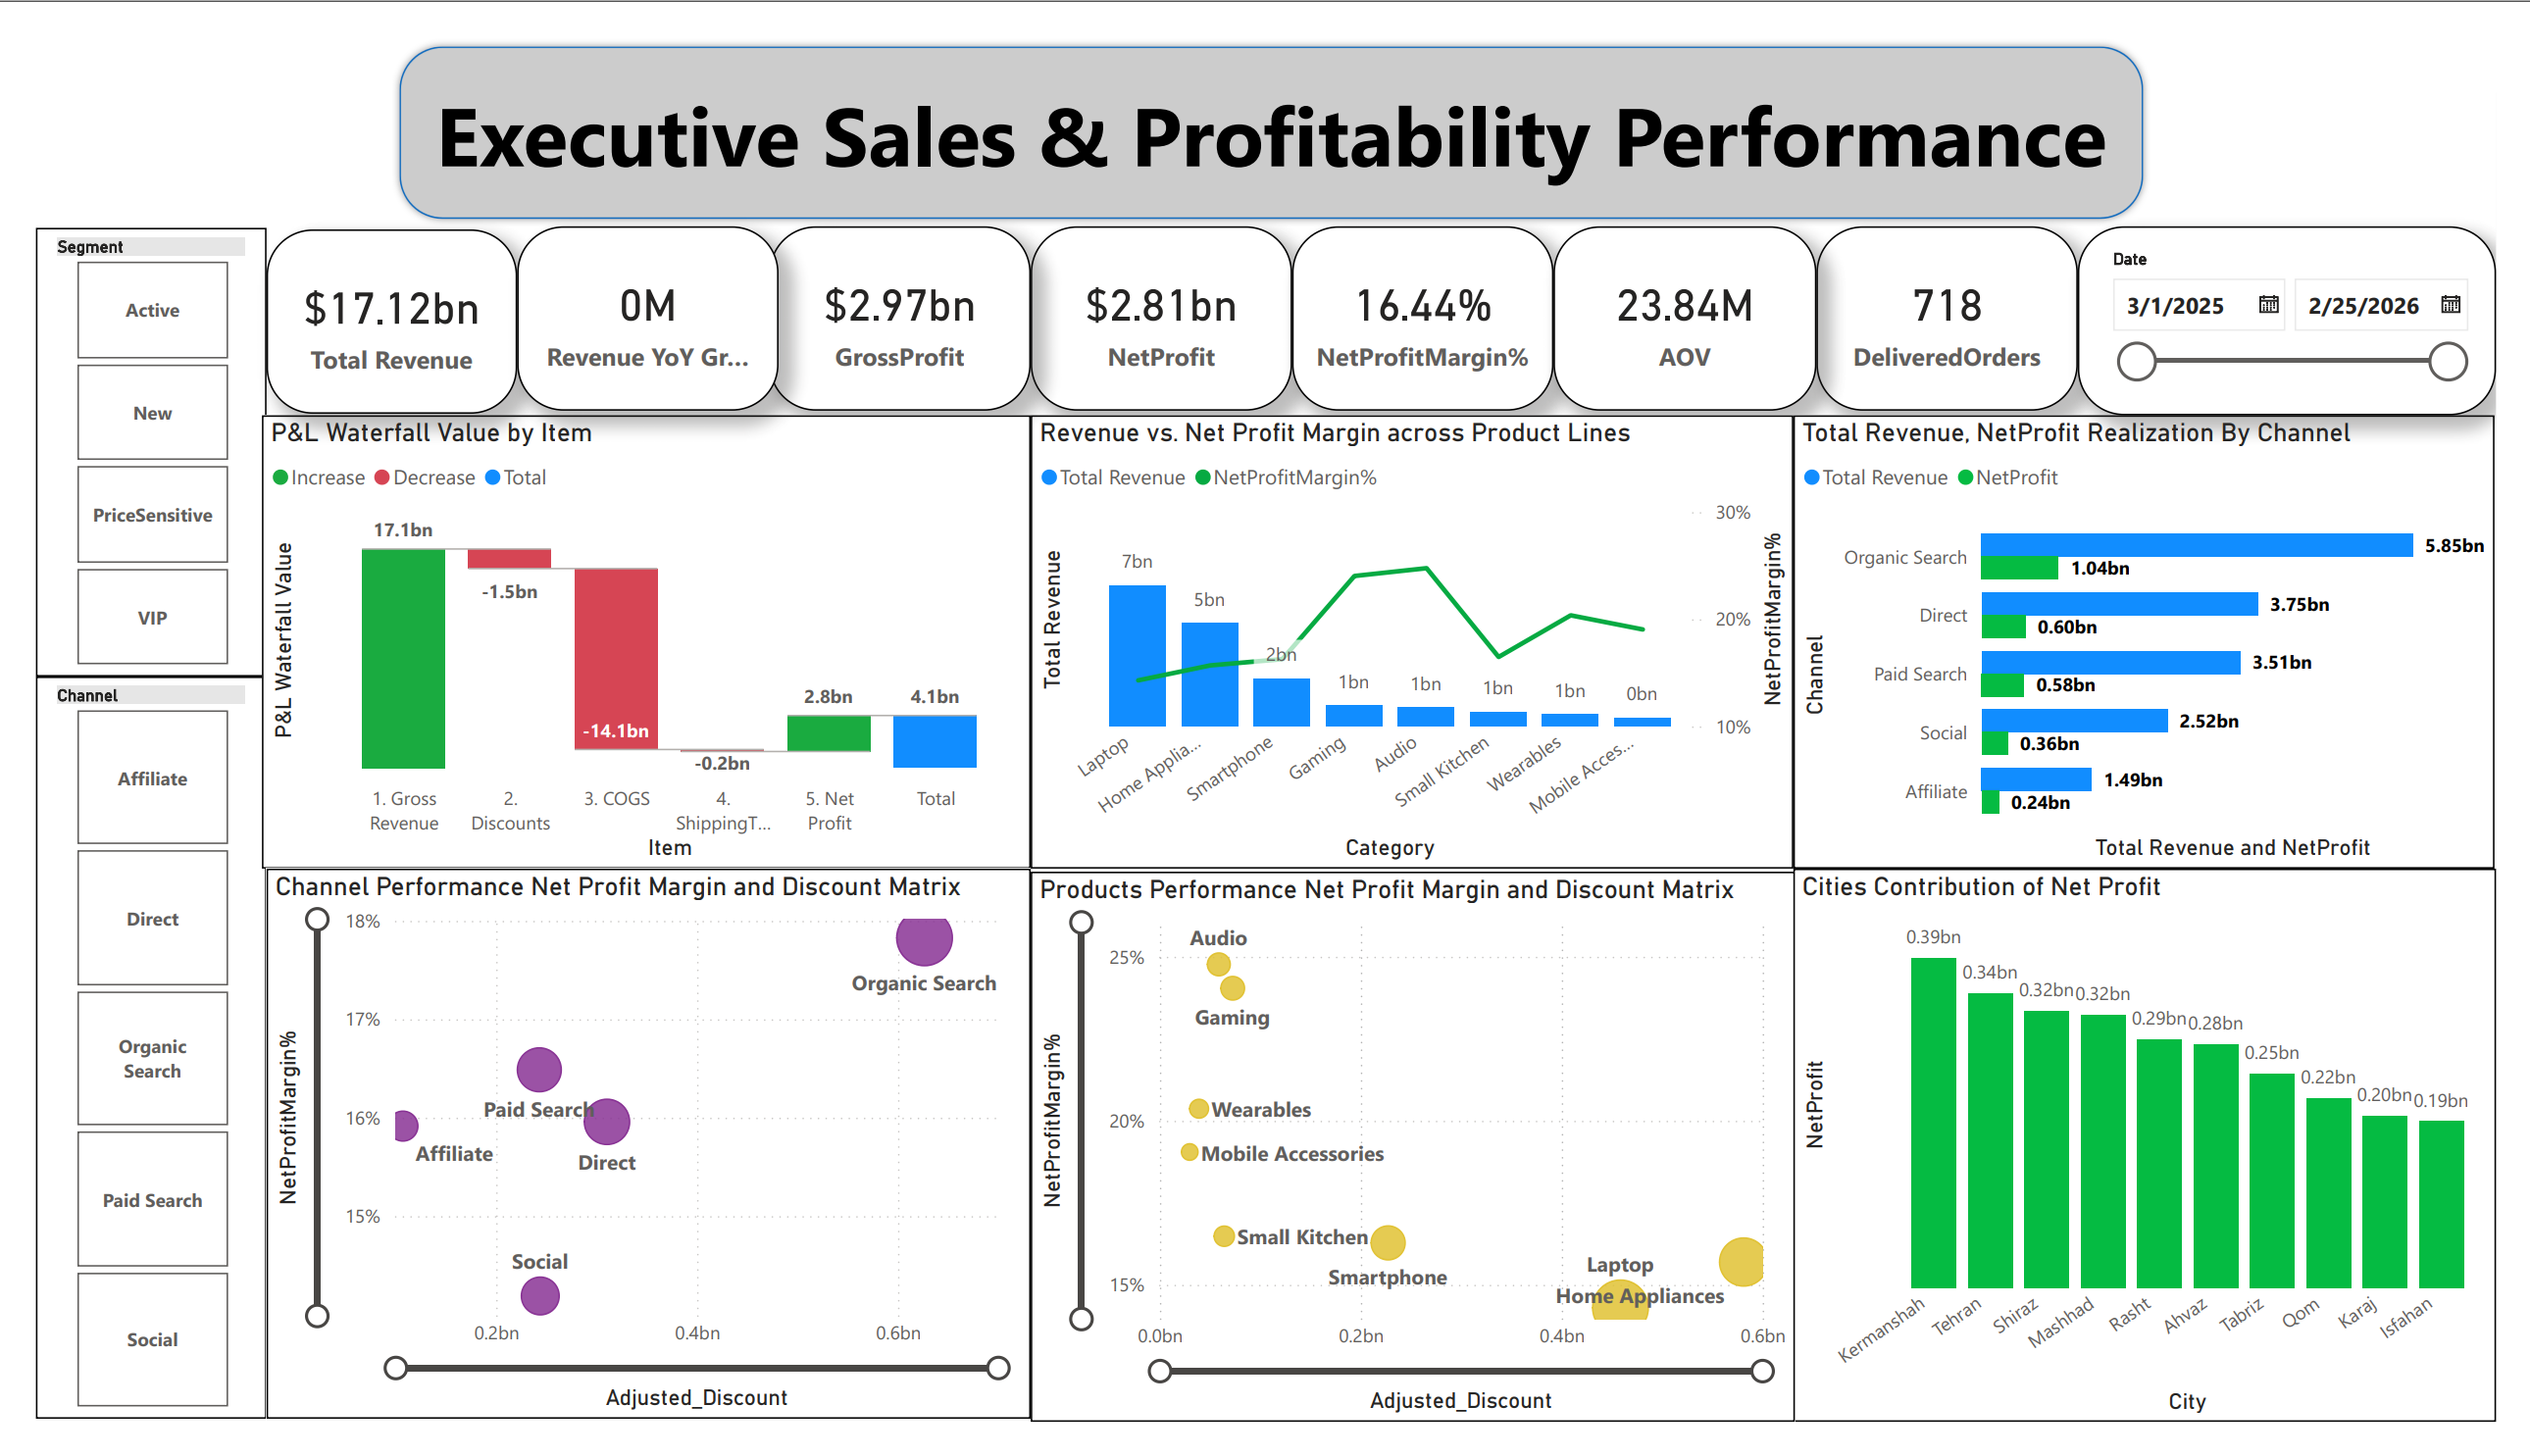

The page's visual inventory and layout, read from the dashboard file:
{"tool":"powerbi","page":{"name":"Executive Overview","canvas":[1600,900],"ordinal":0},"visuals":[{"type":"card","fields":{"Values":["Measure_List.NetProfit"]},"box":[646.7,122,170,119.6],"z":1000},{"type":"card","fields":{"Values":["Measure_List.%ProfitMargin"]},"box":[816.7,122,170,119.6],"z":2000},{"type":"card","fields":{"Values":["Measure_List.DeliveredOrders"]},"box":[1158.3,122,170,119.6],"z":3000},{"type":"card","fields":{"Values":["Measure_List.AOV"]},"box":[986.7,121.7,171.7,120],"z":4000},{"type":"lineClusteredColumnComboChart","title":"Revenue vs. Net Profit Margin across Product Lines","fields":{"Category":["Products.Category"],"Y":["Measure_List.Revenue"],"Y2":["Measure_List.%ProfitMargin"]},"box":[646.6,244.6,496.8,295],"z":5000},{"type":"clusteredBarChart","title":"Total Revenue, NetProfit Realization By Channel","fields":{"Category":["Marketing.Channel"],"Y":["Measure_List.Total Revenue","Measure_List.NetProfit"]},"box":[1143.3,244.6,455.5,295],"z":7000},{"type":"slicer","fields":{"Values":["Calender.Date"]},"box":[1328.3,122,271.7,123.3],"z":12000},{"type":"clusteredColumnChart","title":"Cities Contribution of Net Profit","fields":{"Category":["Logistics.City"],"Y":["Measure_List.NetProfit"]},"box":[1143.3,540,456.7,360],"z":13000},{"type":"slicer","fields":{"Values":["Customers.Segment"]},"box":[0,123.3,150,291.7],"z":14000},{"type":"slicer","fields":{"Values":["Orders.Channel"]},"box":[0,415,150,483.3],"z":15000},{"type":"card","fields":{"Values":["Measure_List.GrossProfit"]},"box":[476.7,122,170,119.6],"z":17002},{"type":"waterfallChart","fields":{"Category":["P&L Structure Table.Item"],"Y":["Measure_List.P&L Waterfall Value"]},"box":[146.7,245,500,295],"z":17003},{"type":"card","fields":{"Values":["Measure_List.Total Revenue"]},"box":[150,123.7,163.3,120],"z":17004},{"type":"shape","box":[231.7,0,1143.3,121.7],"z":17006},{"type":"card","fields":{"Values":["Measure_List.Revenue YoY Growth"]},"box":[313.3,122,170,119.6],"z":17007},{"type":"scatterChart","title":"Channel Performance Net Profit Margin and Discount Matrix","fields":{"Category":["Marketing.Channel"],"Size":["Measure_List.Total Revenue"],"X":["Measure_List.Adjusted_Discount"],"Y":["Measure_List.NetProfitMargin%"]},"box":[150,540,497,358],"z":17008},{"type":"scatterChart","title":"Products Performance Net Profit Margin and Discount Matrix","fields":{"Category":["Products.Category"],"Size":["Measure_List.Total Revenue"],"X":["Measure_List.Adjusted_Discount"],"Y":["Measure_List.NetProfitMargin%"]},"box":[646.7,541.7,497,358],"z":17009}]}

Visuals, with their boxes in screenshot pixels (x1, y1, x2, y2), scaled from the page's 1600x900 canvas onto the 2530x1456 screenshot:
card - Measure_List.NetProfit: <bbox>1023, 197, 1291, 391</bbox>
card - Measure_List.%ProfitMargin: <bbox>1291, 197, 1560, 391</bbox>
card - Measure_List.DeliveredOrders: <bbox>1832, 197, 2100, 391</bbox>
card - Measure_List.AOV: <bbox>1560, 197, 1832, 391</bbox>
"Revenue vs. Net Profit Margin across Product Lines" lineClusteredColumnComboChart: <bbox>1023, 396, 1808, 873</bbox>
"Total Revenue, NetProfit Realization By Channel" clusteredBarChart: <bbox>1808, 396, 2528, 873</bbox>
slicer - Calender.Date: <bbox>2100, 197, 2529, 397</bbox>
"Cities Contribution of Net Profit" clusteredColumnChart: <bbox>1808, 874, 2529, 1455</bbox>
slicer - Customers.Segment: <bbox>0, 199, 237, 672</bbox>
slicer - Orders.Channel: <bbox>0, 672, 237, 1453</bbox>
card - Measure_List.GrossProfit: <bbox>754, 197, 1023, 391</bbox>
waterfallChart - P&L Structure Table.Item x Measure_List.P&L Waterfall Value: <bbox>232, 396, 1023, 874</bbox>
card - Measure_List.Total Revenue: <bbox>237, 200, 495, 394</bbox>
shape: <bbox>367, 0, 2174, 197</bbox>
card - Measure_List.Revenue YoY Growth: <bbox>495, 197, 764, 391</bbox>
"Channel Performance Net Profit Margin and Discount Matrix" scatterChart: <bbox>237, 874, 1023, 1453</bbox>
"Products Performance Net Profit Margin and Discount Matrix" scatterChart: <bbox>1023, 877, 1808, 1455</bbox>
